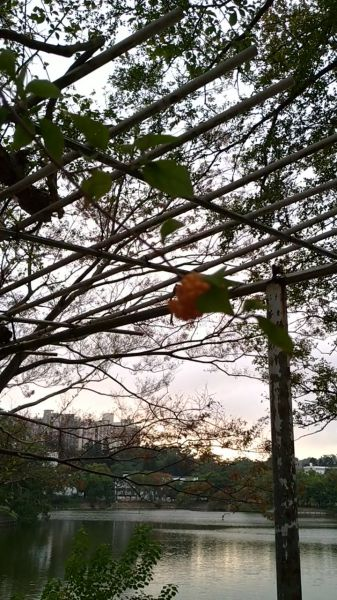eggs: (167, 265, 227, 325)
